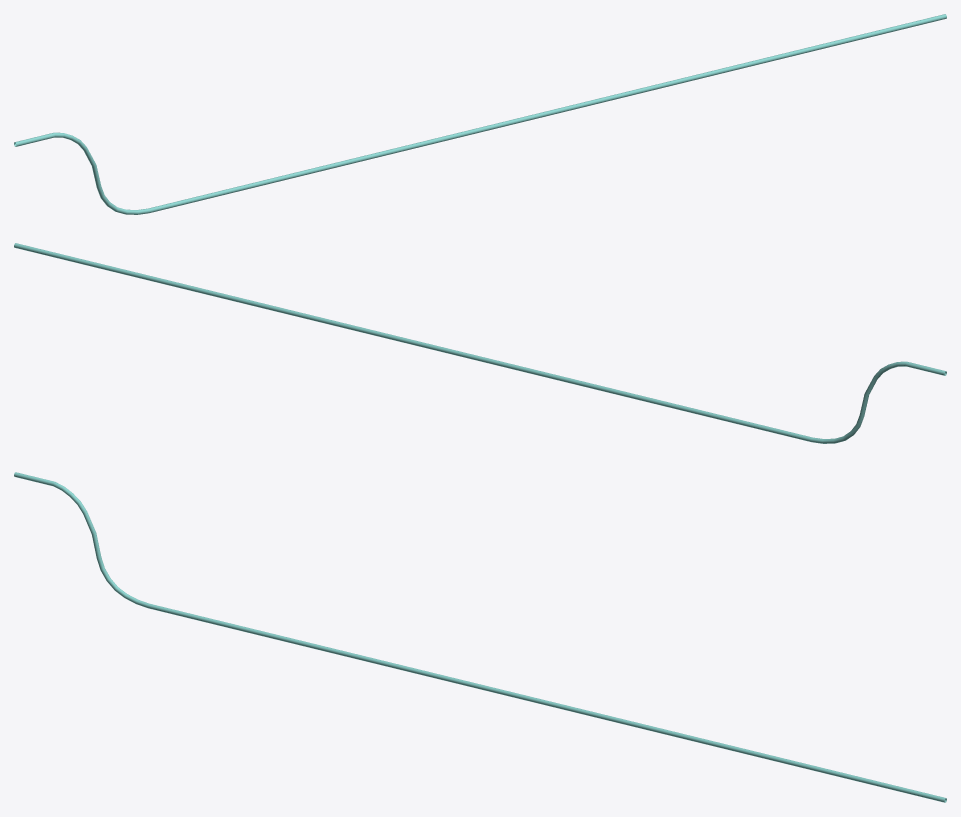
The model's file is shuiguan.FBX.
3 views of the same model, one above another, from view 1: azimuth 30°, elevation 25°; view 2: azimuth 150°, elevation 25°; view 3: azimuth 330°, elevation 25° (orthographic).
Visible parts, largest first — view 1: shuiguan; view 2: shuiguan; view 3: shuiguan.
Part boxes in pixels (bbox=[...]): shuiguan: bbox=[14, 14, 946, 214]; shuiguan: bbox=[14, 243, 946, 443]; shuiguan: bbox=[14, 472, 946, 802].
Bounding box in the file's own units: 440 × 46.65 × 2.
1 material, 1 textured.
